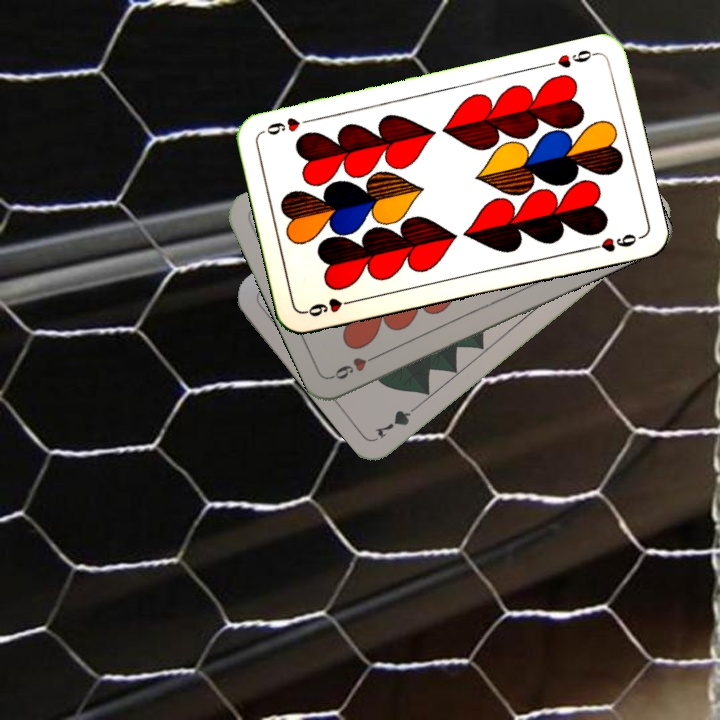G7: (371, 399, 424, 442)
H9: (328, 349, 383, 382), (301, 294, 359, 320), (553, 45, 600, 71)
